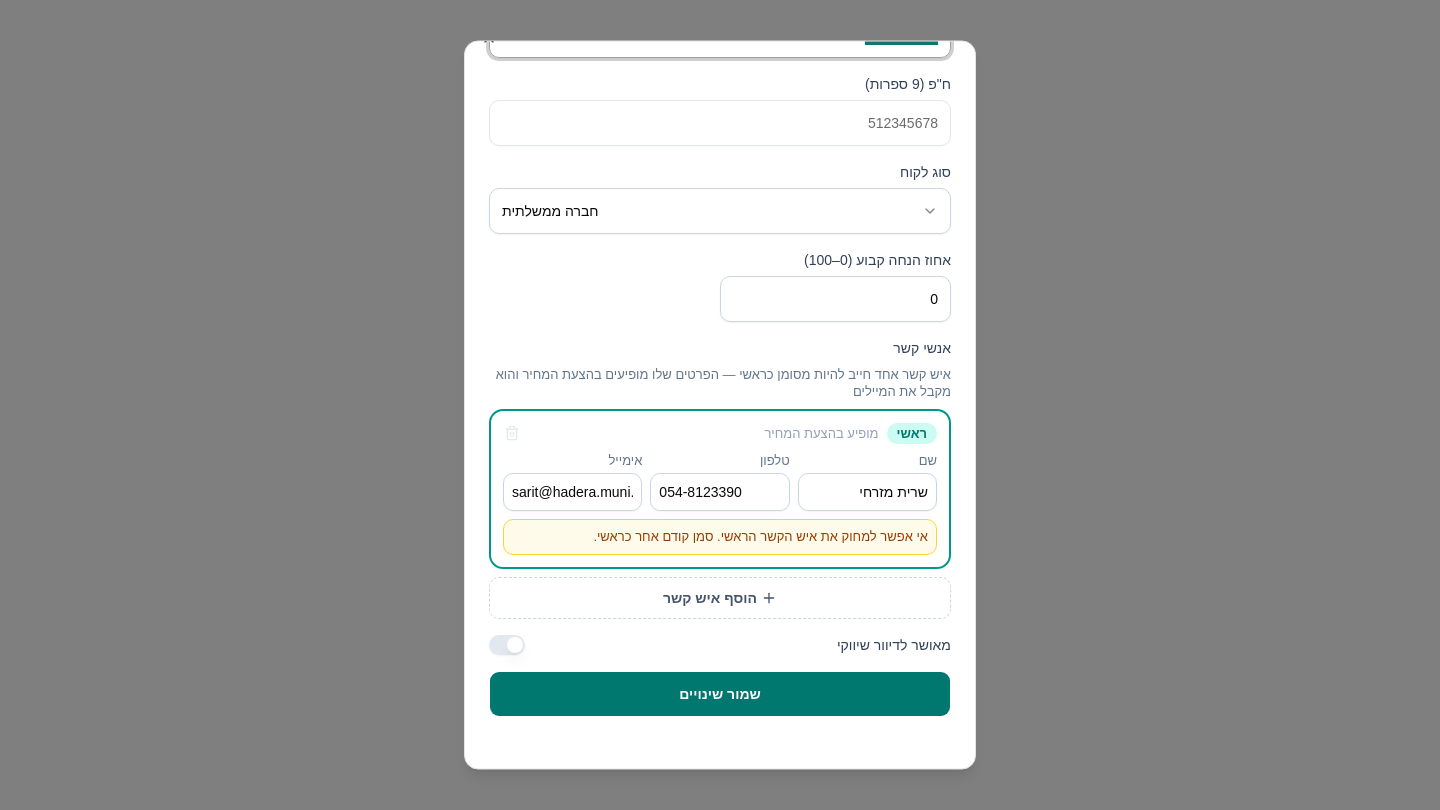
CustomerFormDialog — N2, שמירה רגילה (לקוח עם איש-קשר יחיד — מצב כל 9 הלקוחות היום) › שומרת את פרטי הלקוח ואת אנשי-הקשר, ומציגה את פס-ההצלחה
(page scrolled)
Click the button with test id "customer-form-submit" at (720, 693), box [489,670,951,716]
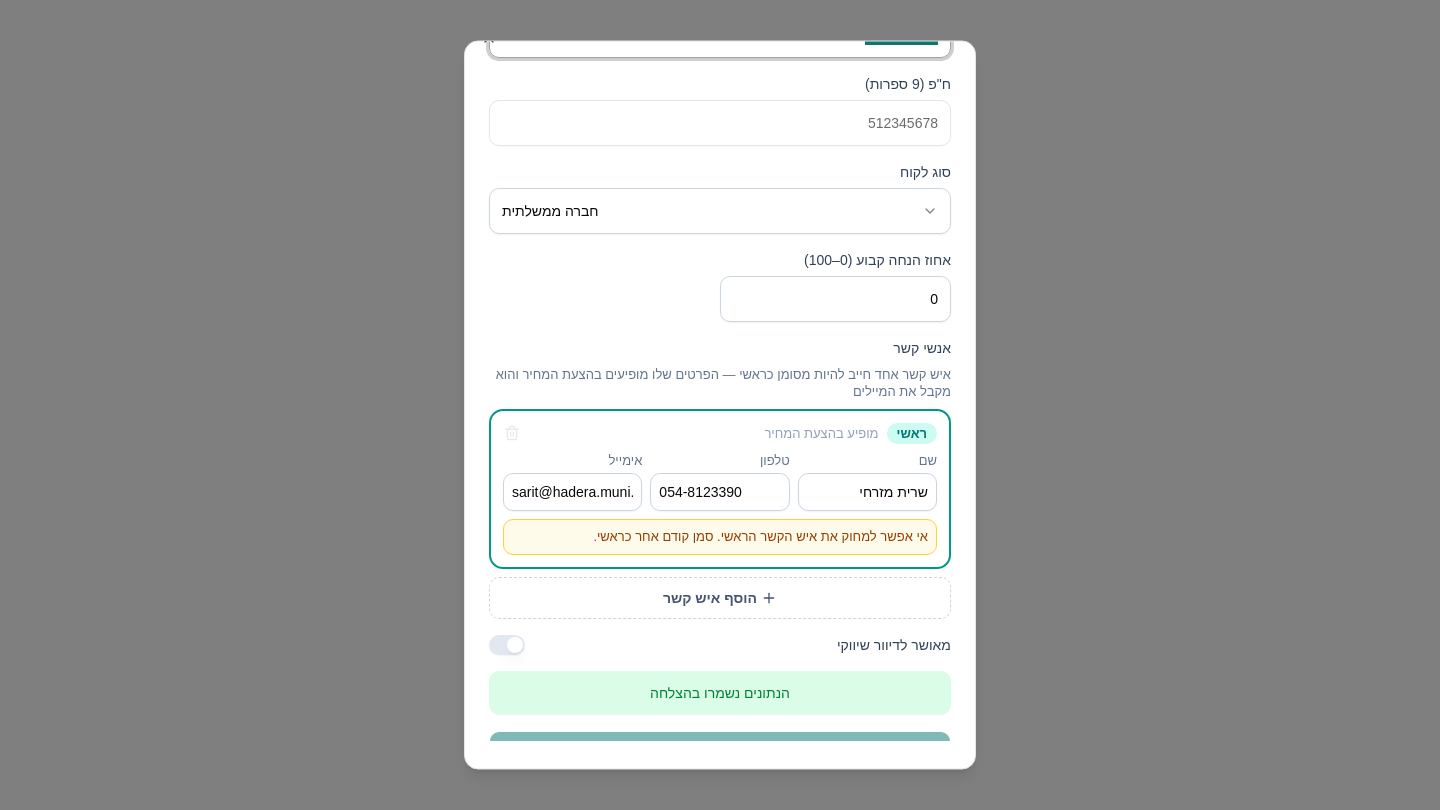
Check: the text with test id "customer-save-success" reads "הנתונים נשמרו בהצלחה", box [650,684,790,700]
